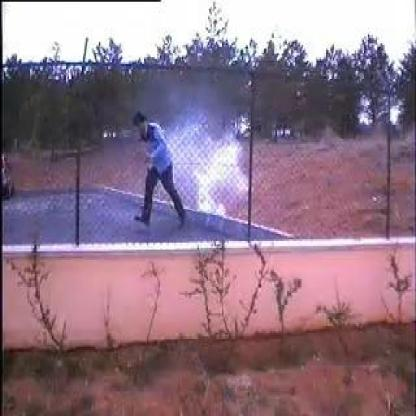-: (174, 121, 247, 217)
